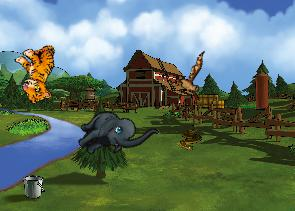eagle: (169, 51, 213, 104)
elephant: (70, 90, 159, 177)
tiger: (8, 39, 70, 106)
